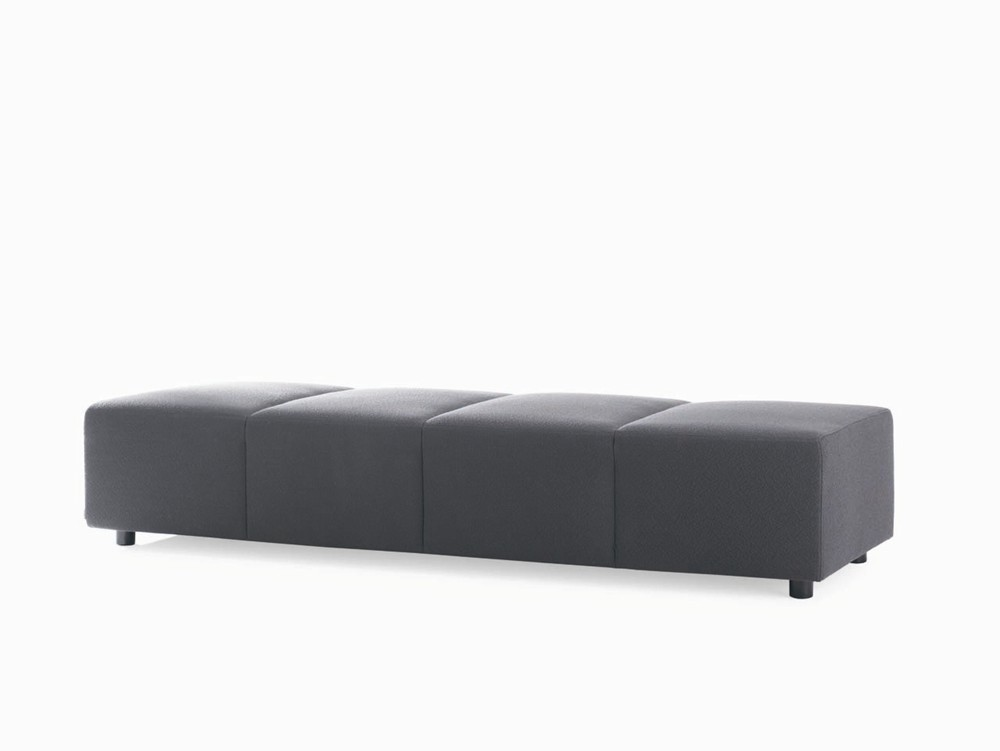chairs: (81, 357, 899, 602)
